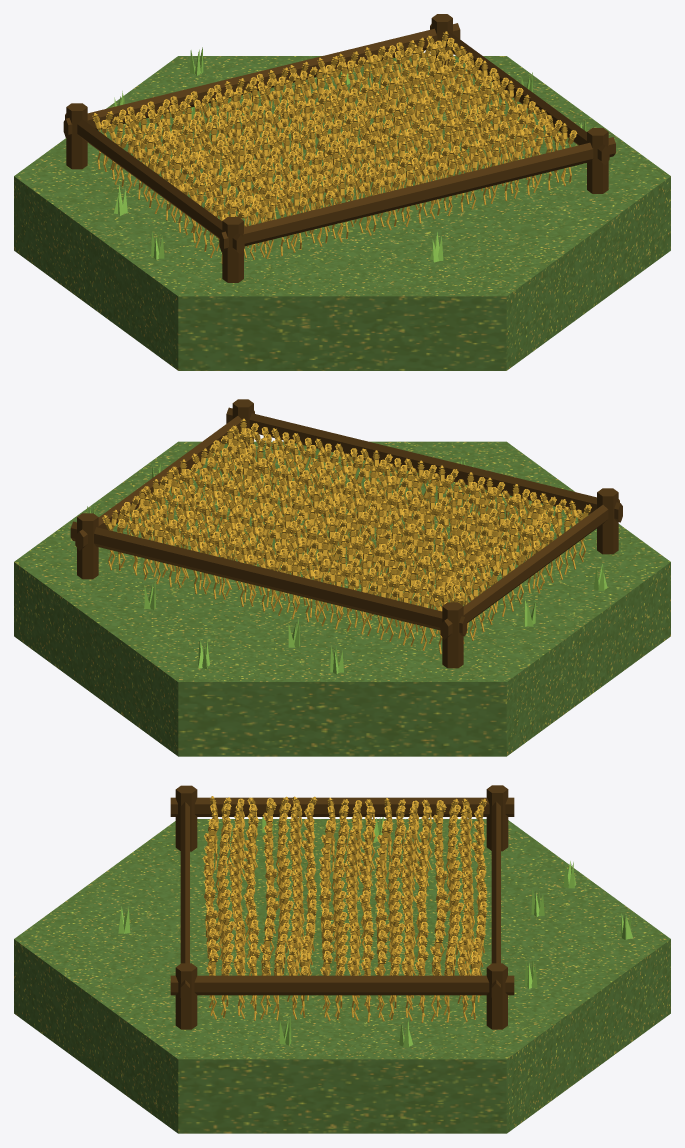
File: Hex_Fields_Test.fbx
The picture shows the model from 3 angles, top to bottom: view 1: azimuth 30°, elevation 25°; view 2: azimuth 150°, elevation 25°; view 3: azimuth 270°, elevation 25°; orthographic projection.
Visible parts, largest first — view 1: Hex Tile.004, Fields, Fence, Grass.003; view 2: Hex Tile.004, Fields, Fence, Grass.003; view 3: Hex Tile.004, Fields, Fence, Grass.003.
Boxes of the visible parts, x1,y1,x2,y2 form: Hex Tile.004: [14, 56, 670, 370]; Fields: [92, 31, 577, 263]; Fence: [63, 14, 615, 282]; Grass.003: [114, 47, 587, 262]; Hex Tile.004: [14, 441, 670, 756]; Fields: [102, 418, 591, 654]; Fence: [70, 399, 622, 668]; Grass.003: [87, 460, 607, 674]; Hex Tile.004: [14, 819, 670, 1133]; Fields: [202, 796, 487, 1022]; Fence: [170, 785, 514, 1029]; Grass.003: [118, 817, 632, 1047].
Bounding box in the file's own units: 346 × 89.11 × 400.
4 materials, 4 textured.
